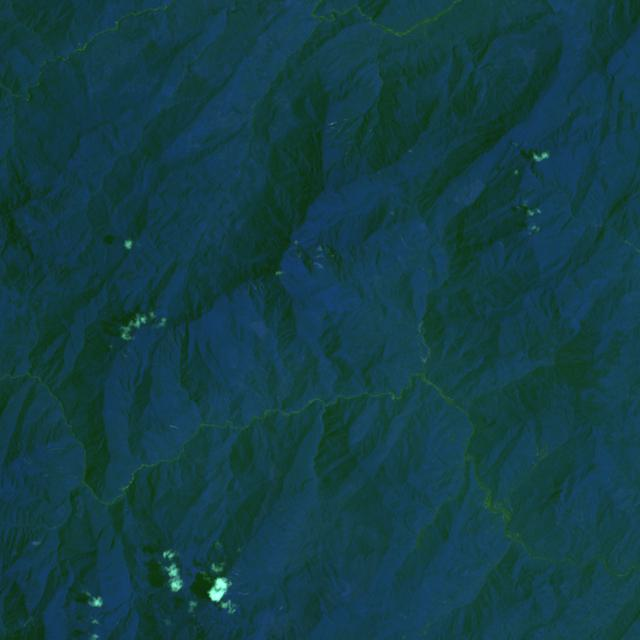landslides: (30, 202, 66, 229), (127, 346, 140, 365), (400, 235, 410, 251)
